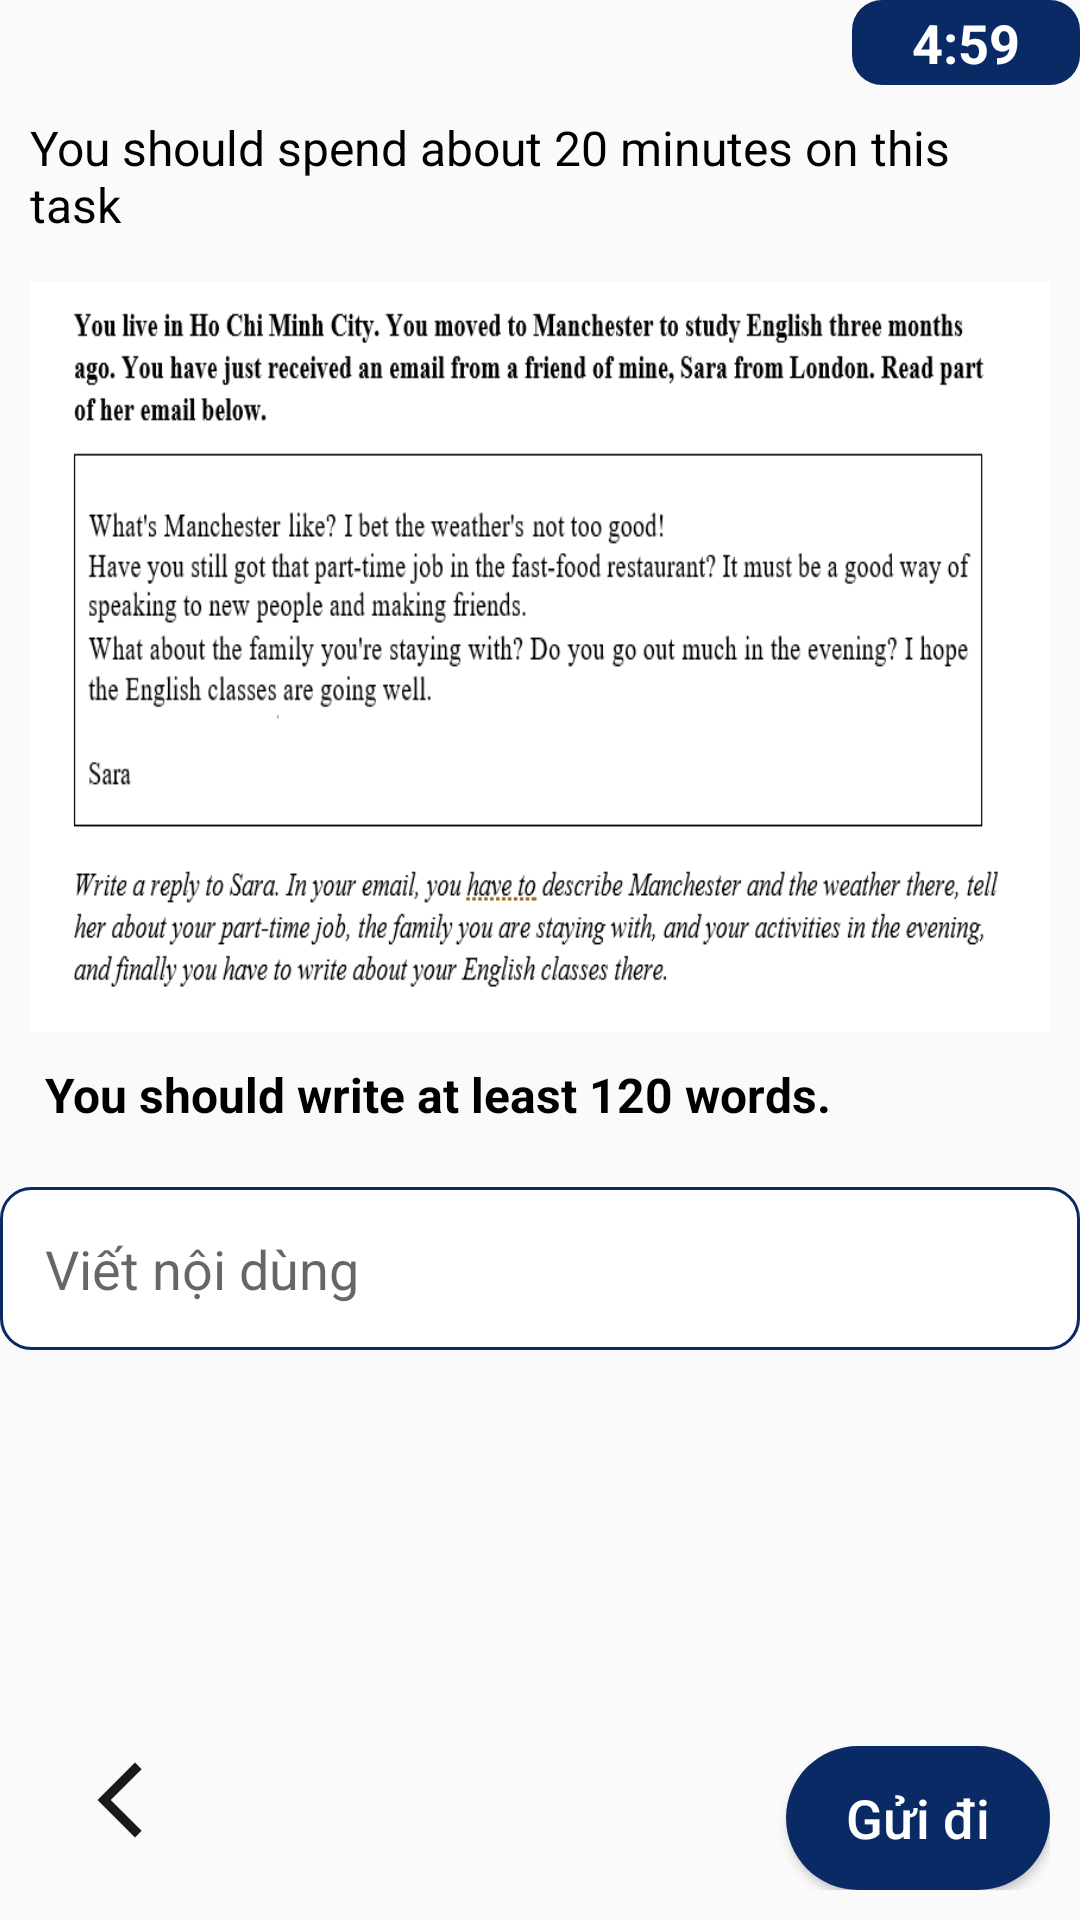

Screen size 1080w x 1920h. Icon name, then its box in pixels as Rect(x1, y1, x2, y2):
back: Rect(97, 1762, 142, 1838)
